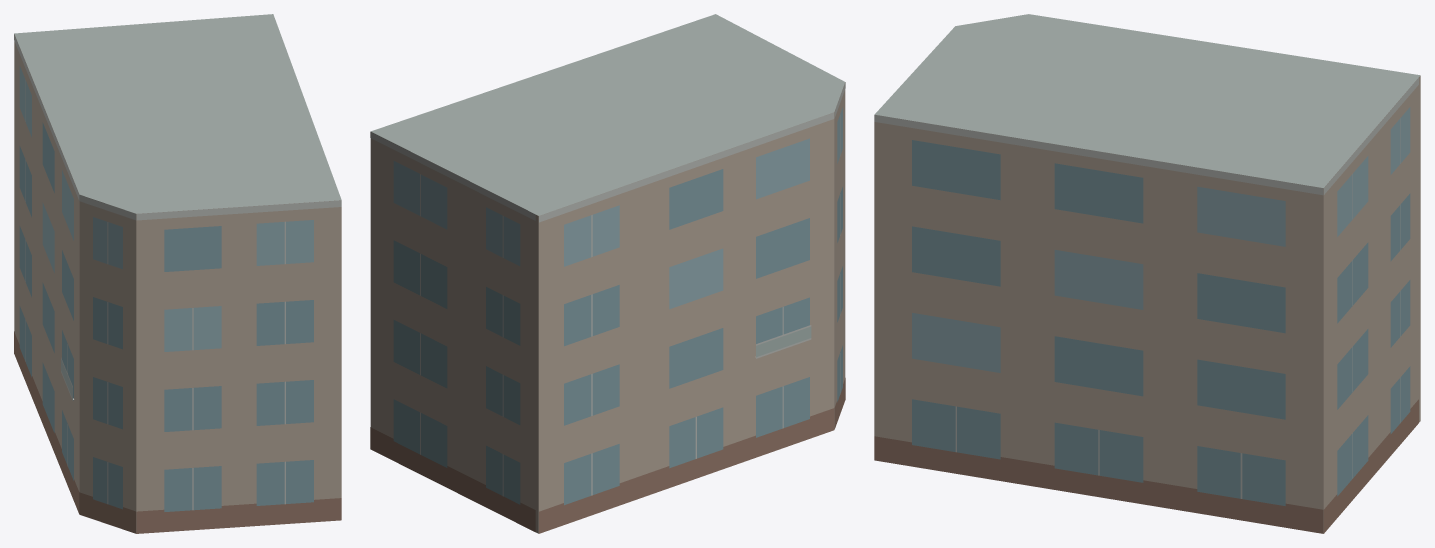
File: survey-upis-33044202.glb
The picture shows the model from 3 angles, left to right: view 1: azimuth 30°, elevation 25°; view 2: azimuth 150°, elevation 25°; view 3: azimuth 270°, elevation 25°; orthographic projection. The views are drawn at different scales.
Parts seen in each view (by area): view 1: survey-upis-33044202.tmp; view 2: survey-upis-33044202.tmp; view 3: survey-upis-33044202.tmp.
Boxes of the visible parts, x1,y1,x2,y2 form: survey-upis-33044202.tmp: (14,14,341,533); survey-upis-33044202.tmp: (370,14,845,533); survey-upis-33044202.tmp: (874,14,1420,533).
Size of the model in its own units: 12.65 by 11.7 by 16.76.
